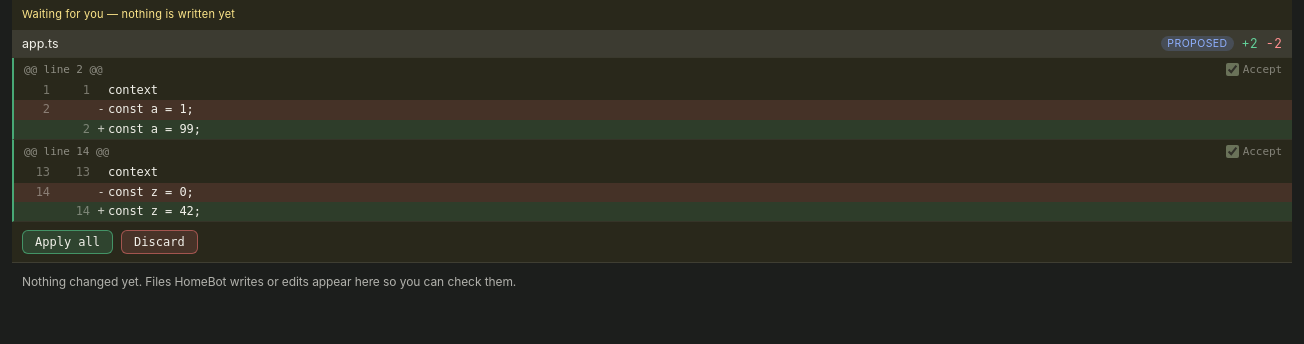
Scenario: unticking a hunk applies only the rest, and the button says how many
What coordinates should you click on to do the following:
click the checkbox named "Accept change at line 2 in app.ts"
I would click on:
 (1232, 69)
Its box is [1226,63,1239,76].
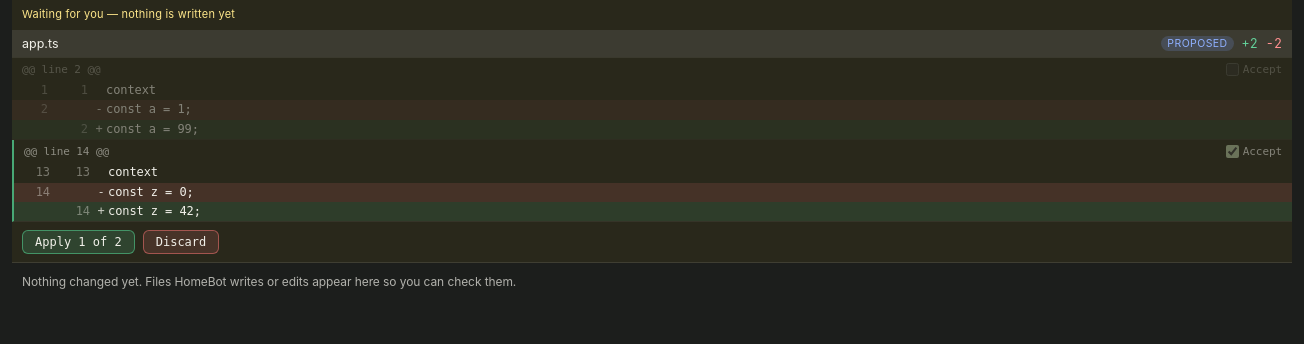
Now the button "Apply 1 of 2" is shown
What coordinates should you click on to do the following:
click the button "Apply 1 of 2"
I would click on:
 (78, 242)
Its box is [22,230,135,254].
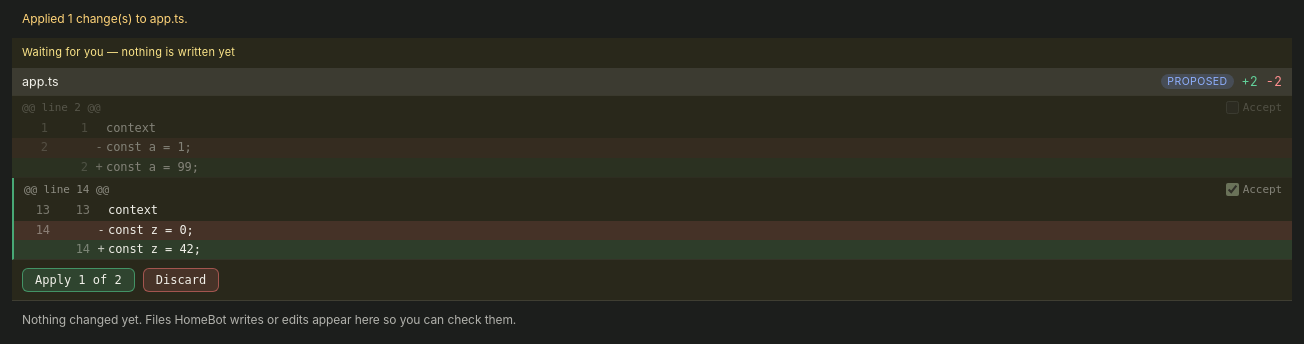
Now the message shows "Applied 1 change(s) to app.ts", box [22,11,188,26]
